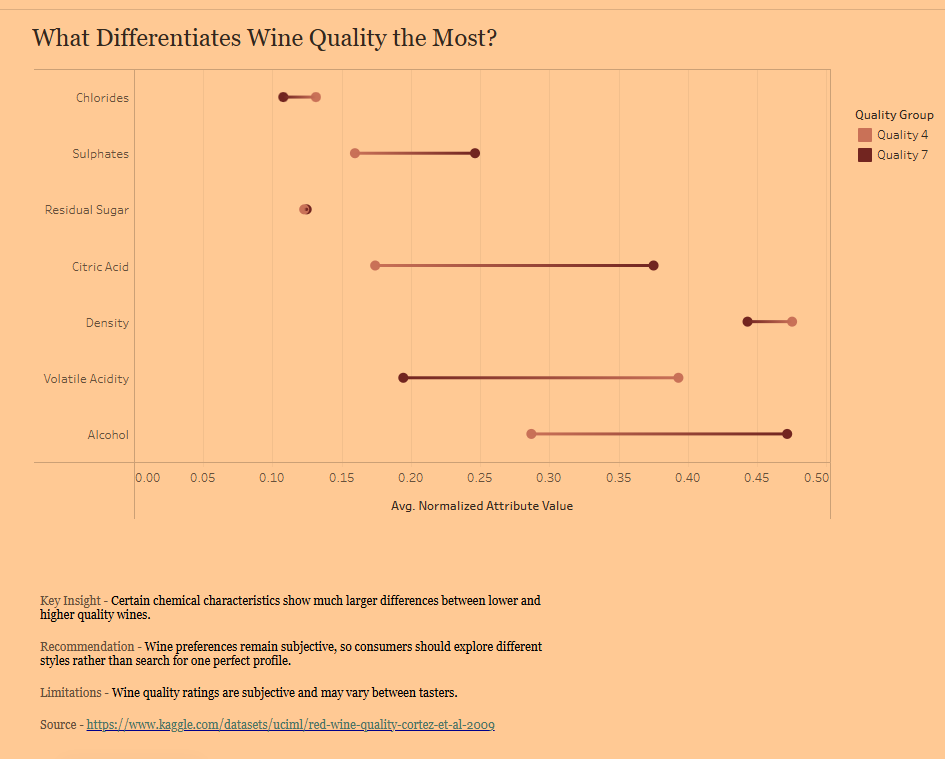

The page's visual inventory and layout, read from the dashboard file:
{"tool":"tableau","page":{"name":"Dashboard 2","canvas":[1000,800],"ordinal":1},"visuals":[{"type":"title","box":[8,8,984,43]},{"type":"worksheet","title":"Dumbbell","mark":"Circle","rows":["Pivot Field Names"],"cols":["Calculation_0610845992382466","Calculation_0610845992382466"],"box":[14,59,797,451]},{"type":"legend","title":"Dumbbell","param":"[federated.1qytdwq14478e41fypg8a0z1003m (copy)].[none:Quality Group (copy)_06108","box":[835,96,140,64]},{"type":"text","box":[20,522,503,261]}]}

Visuals, with their boxes in screenshot pixels (x1, y1, x2, y2), scaled from the page's 1000x800 canvas onto the 945x759 screenshot:
title: crop(8, 8, 937, 48)
"Dumbbell" worksheet (Circle marks): crop(13, 56, 766, 484)
"Dumbbell" legend: crop(789, 91, 921, 152)
text: crop(19, 495, 494, 743)
